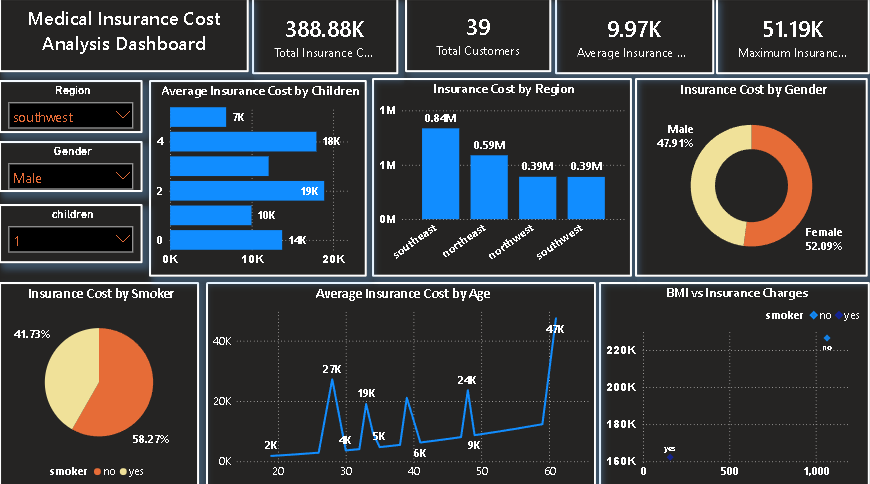

What the dashboard file says about the page in this screenshot:
{"tool":"powerbi","page":{"name":"Page 1","canvas":[1280,720],"ordinal":0},"visuals":[{"type":"cardVisual","fields":{"Data":["insurance.Total Insurance Cost"]},"box":[371.8,0,214.5,111.7],"z":0},{"type":"cardVisual","fields":{"Data":["insurance.Average Insurance Cost"]},"box":[817,0,233.6,111.7],"z":1},{"type":"cardVisual","fields":{"Data":["insurance.Total Customers"]},"box":[596.6,0,214.5,108.7],"z":2},{"type":"cardVisual","fields":{"Data":["insurance.Maximum Insurance Cost"]},"box":[1053.6,0,226.3,111.7],"z":3},{"type":"pieChart","title":"Insurance Cost by Smoker","fields":{"Category":["insurance.smoker"],"Y":["insurance.Total Insurance Cost"]},"box":[0,417.3,293.9,302.7],"z":4},{"type":"columnChart","title":"Insurance Cost by Region","fields":{"Category":["insurance.region"],"Y":["insurance.Total Insurance Cost"]},"box":[548.1,117.6,382,292.4],"z":5},{"type":"donutChart","title":"Insurance Cost by Gender","fields":{"Category":["insurance.Gender"],"Y":["insurance.Total Insurance Cost"]},"box":[934.5,117.6,342.4,292.4],"z":6},{"type":"scatterChart","title":"BMI vs Insurance Charges","fields":{"X":["Sum(insurance.bmi)"],"Series":["insurance.smoker"],"Y":["Sum(insurance.charges)"]},"box":[881.6,417.3,398.2,302.7],"z":7},{"type":"lineChart","title":"Average Insurance Cost by Age","fields":{"Category":["insurance.age"],"Y":["insurance.Average Insurance Cost"]},"box":[304.2,417.3,573.1,302.7],"z":8},{"type":"clusteredBarChart","title":"Average Insurance Cost by Children","fields":{"Category":["insurance.children"],"Y":["insurance.Average Insurance Cost"]},"box":[220.4,120.5,320.3,289.5],"z":9},{"type":"slicer","title":"Gender","fields":{"Values":["insurance.Gender"]},"box":[0,209.7,211.4,74.9],"z":10},{"type":"slicer","title":"Region","fields":{"Values":["insurance.region"]},"box":[0,119.8,211.4,78.2],"z":11},{"type":"textbox","box":[0,0,367.3,108.7],"z":12},{"type":"slicer","title":"children","fields":{"Values":["insurance.children"]},"box":[0,302.9,211.4,86.6],"z":13}]}

Visuals, with their boxes in screenshot pixels (x1, y1, x2, y2), scaled from the page's 1280x720 canvas onto the 870x484 screenshot:
cardVisual - insurance.Total Insurance Cost: [x1=253, y1=0, x2=399, y2=75]
cardVisual - insurance.Average Insurance Cost: [x1=555, y1=0, x2=714, y2=75]
cardVisual - insurance.Total Customers: [x1=406, y1=0, x2=551, y2=73]
cardVisual - insurance.Maximum Insurance Cost: [x1=716, y1=0, x2=869, y2=75]
"Insurance Cost by Smoker" pieChart: [x1=0, y1=281, x2=200, y2=483]
"Insurance Cost by Region" columnChart: [x1=373, y1=79, x2=632, y2=276]
"Insurance Cost by Gender" donutChart: [x1=635, y1=79, x2=868, y2=276]
"BMI vs Insurance Charges" scatterChart: [x1=599, y1=281, x2=869, y2=483]
"Average Insurance Cost by Age" lineChart: [x1=207, y1=281, x2=596, y2=483]
"Average Insurance Cost by Children" clusteredBarChart: [x1=150, y1=81, x2=368, y2=276]
"Gender" slicer: [x1=0, y1=141, x2=144, y2=191]
"Region" slicer: [x1=0, y1=81, x2=144, y2=133]
textbox: [x1=0, y1=0, x2=250, y2=73]
"children" slicer: [x1=0, y1=204, x2=144, y2=262]
